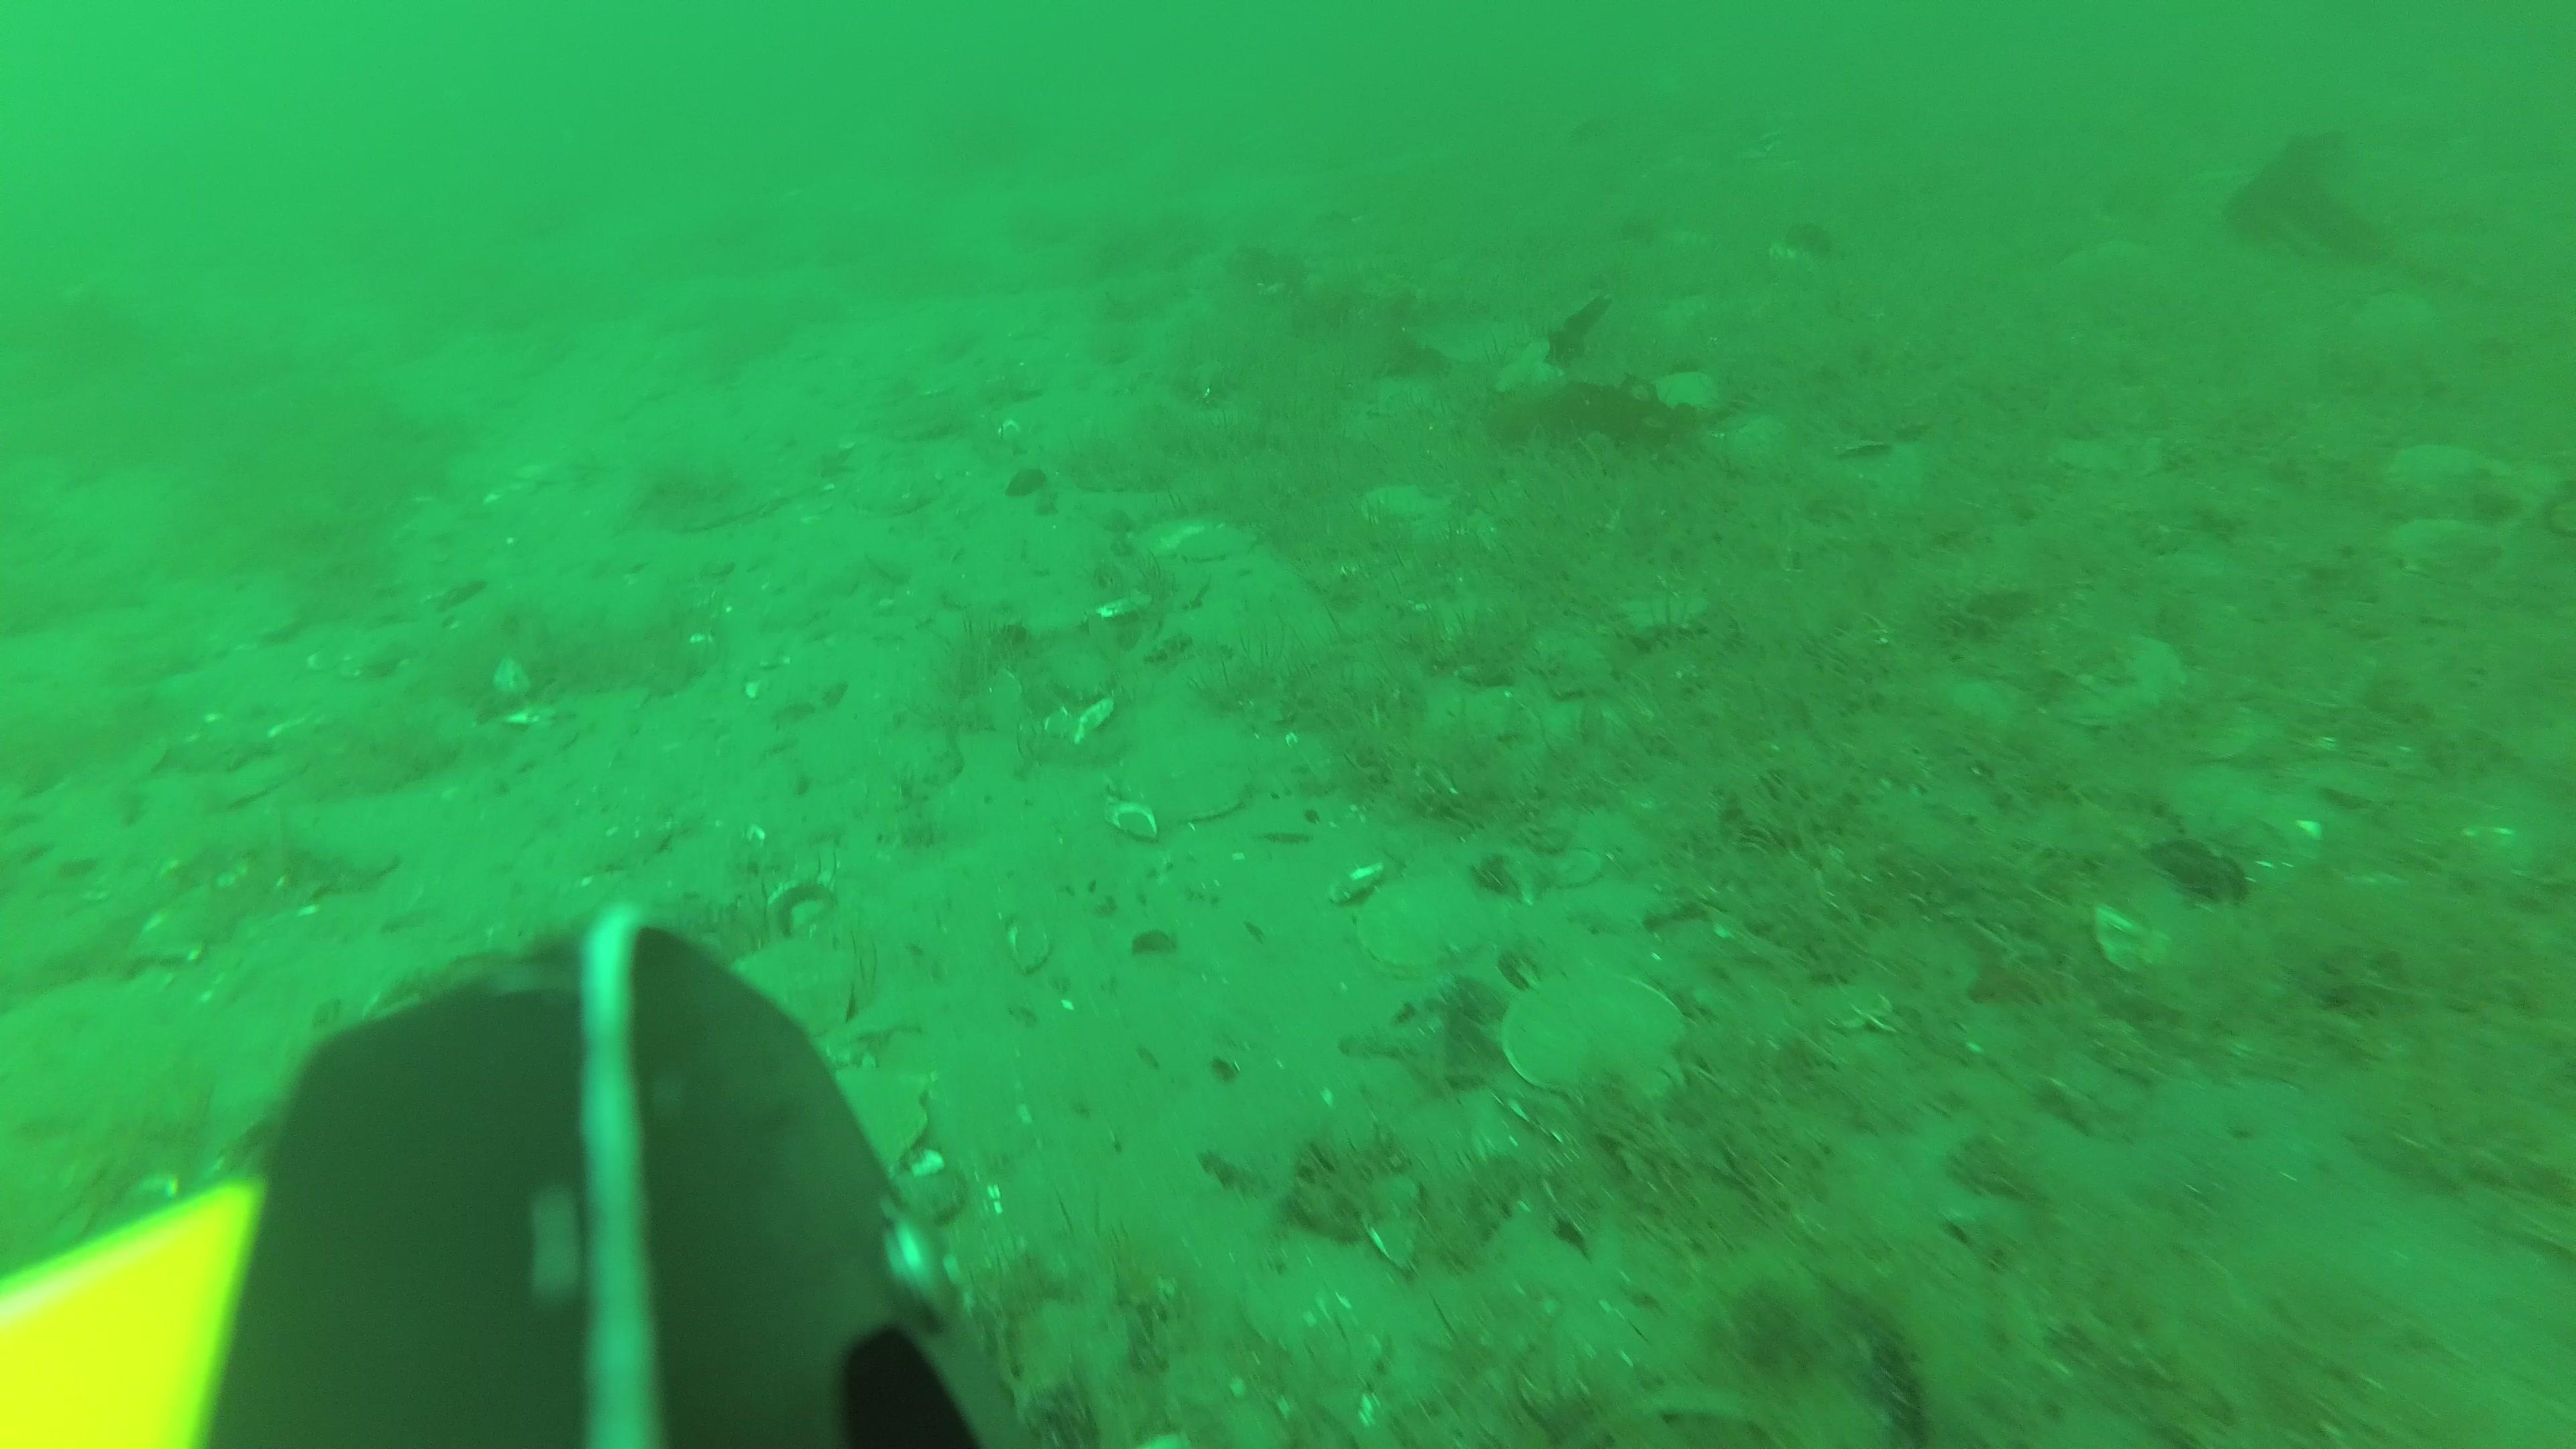scallop: (1502, 973, 1688, 1116), (711, 932, 860, 1062), (791, 1070, 931, 1194), (1115, 729, 1256, 824), (2387, 437, 2542, 520), (1355, 870, 1476, 973), (2065, 630, 2185, 727), (1139, 508, 1260, 566), (2392, 517, 2502, 580)
